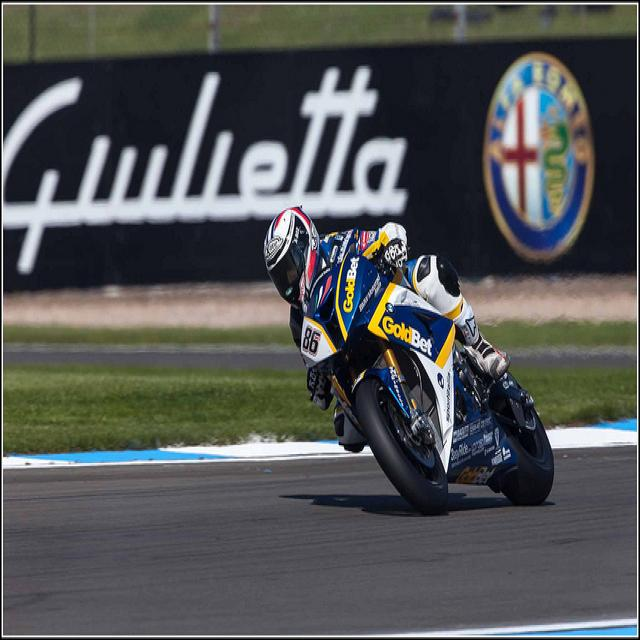motor: (303, 236, 555, 515)
